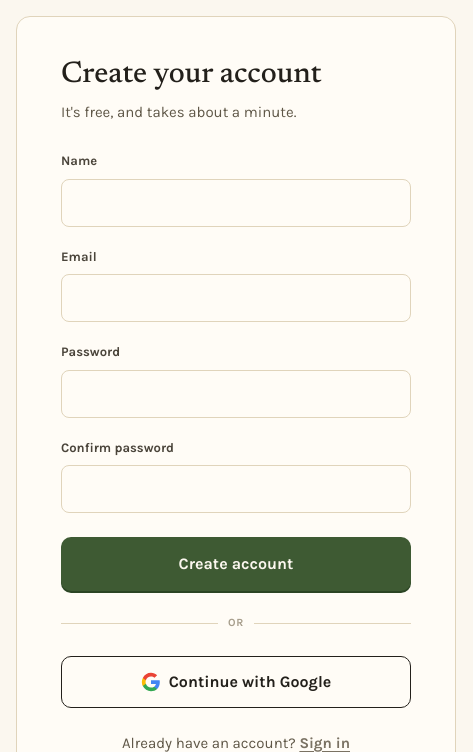
links between the auth pages carry the typed email › from create an account to sign in
Type "jamie@example.com" into the field labelled "Email". click: (236, 298)
box: x1=61 y1=274 x2=411 y2=322
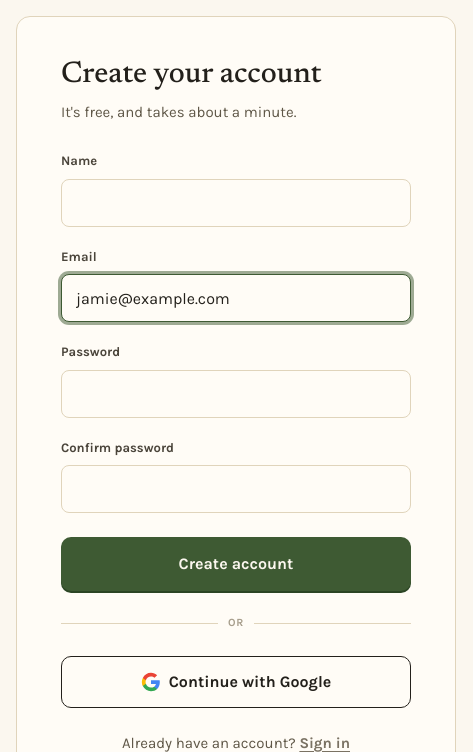
Click the link "Sign in". click: (325, 742)
box: x1=299 y1=734 x2=350 y2=751
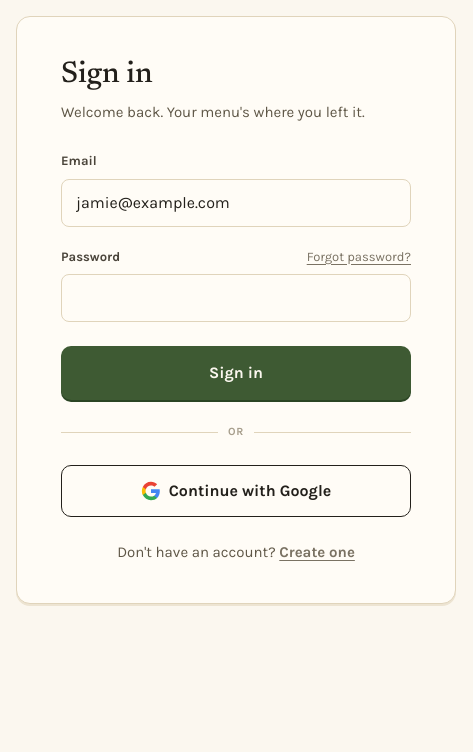
Now the field labelled "Email" holds "jamie@example.com", box x1=61 y1=178 x2=411 y2=226
